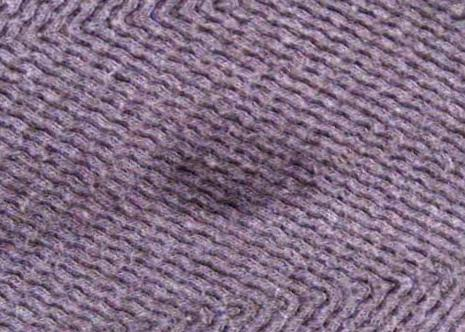stain: (156, 126, 323, 220)
